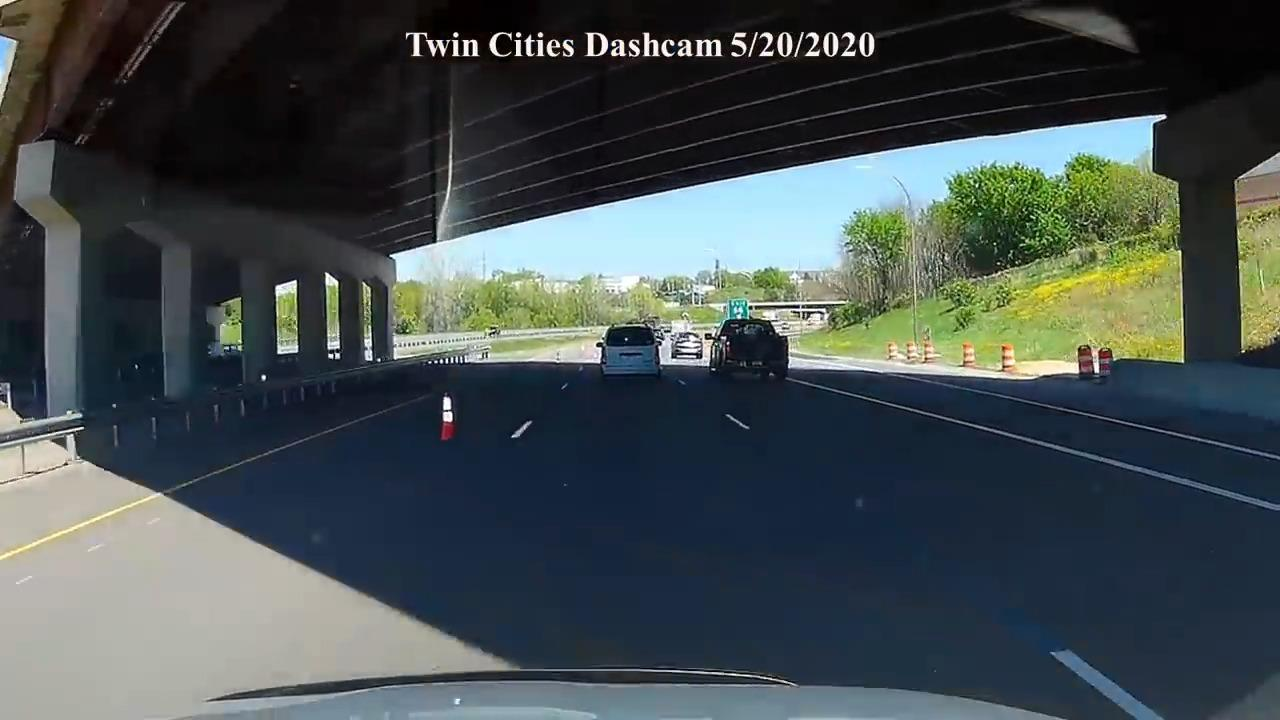car: (708, 317, 790, 381), (596, 324, 663, 379), (668, 331, 703, 360)
traffic cone: (439, 392, 455, 442), (921, 327, 940, 362), (999, 343, 1019, 373)
